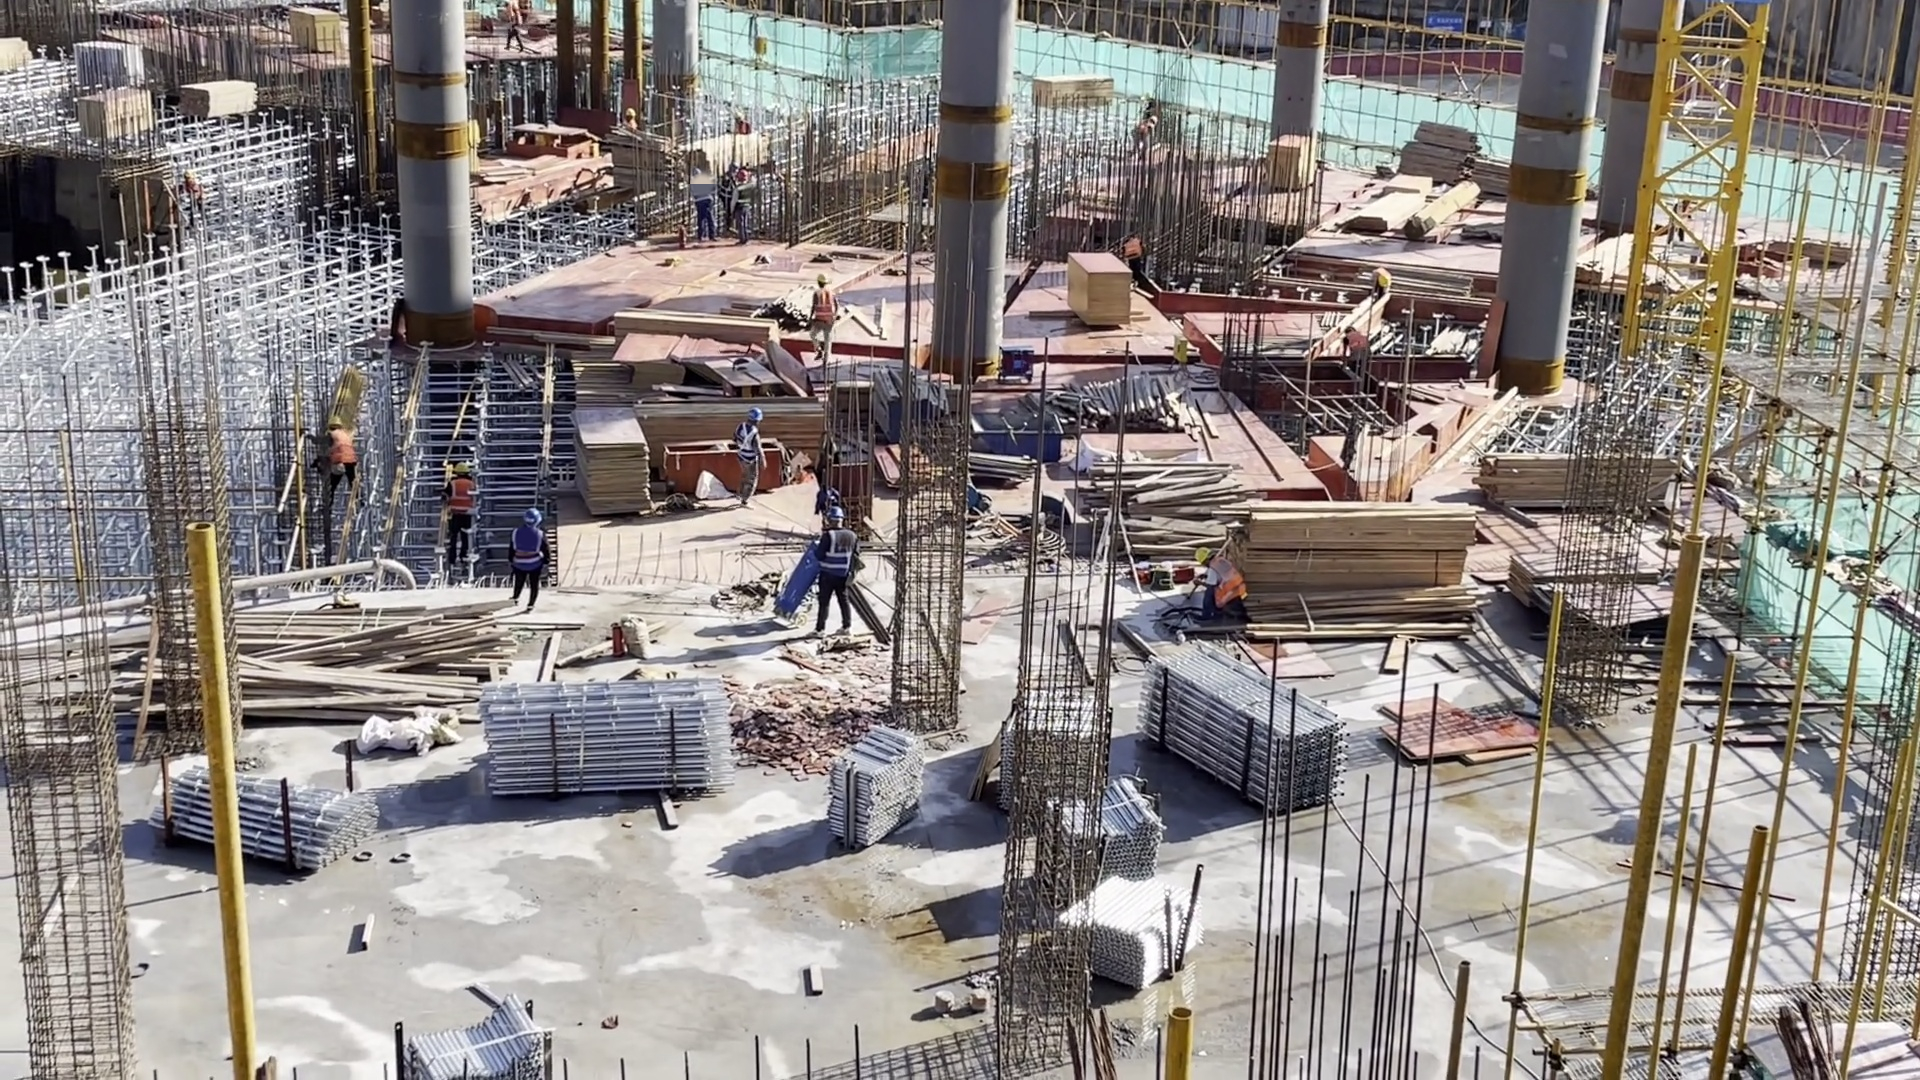helmet: (825, 507, 849, 525), (1192, 543, 1212, 564), (749, 409, 764, 427), (453, 463, 471, 477), (523, 505, 537, 522), (332, 414, 341, 438), (1344, 322, 1357, 336), (185, 167, 198, 179), (818, 274, 827, 289), (1136, 119, 1142, 133), (1378, 274, 1387, 284), (729, 162, 738, 172), (742, 172, 750, 182), (627, 110, 636, 118), (738, 113, 744, 123), (1151, 90, 1157, 97)
person: (504, 507, 557, 615), (1189, 543, 1249, 624), (819, 507, 851, 632), (739, 402, 761, 517), (321, 415, 352, 492), (1341, 321, 1374, 392), (812, 269, 831, 383), (690, 167, 715, 244), (451, 461, 470, 554), (738, 169, 758, 235), (501, 1, 526, 53), (1670, 190, 1690, 246), (1124, 232, 1145, 286), (181, 169, 205, 214), (1371, 266, 1398, 302), (1132, 116, 1155, 155), (1142, 90, 1161, 123), (726, 158, 734, 234), (734, 111, 747, 138), (622, 109, 638, 126)
vest: (1208, 555, 1245, 600), (819, 535, 854, 573), (326, 424, 355, 466), (510, 531, 545, 564), (739, 429, 758, 464), (451, 481, 470, 513), (507, 7, 524, 32), (720, 173, 734, 201), (1128, 237, 1143, 261), (1345, 341, 1362, 360), (185, 182, 201, 202), (1674, 206, 1686, 230), (741, 189, 752, 208), (1145, 120, 1154, 137), (1377, 273, 1389, 286), (737, 123, 748, 134), (1147, 103, 1159, 114), (696, 199, 716, 204), (626, 121, 639, 129)
